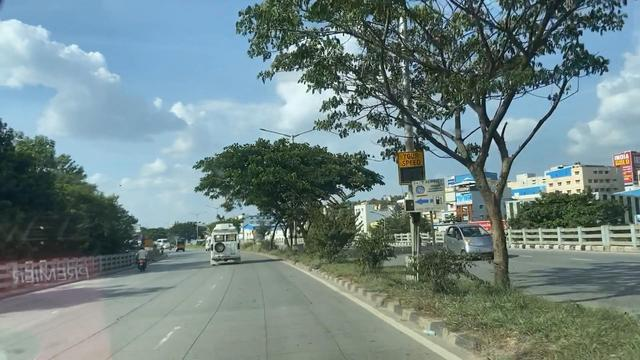HMV: (207, 222, 244, 266)
